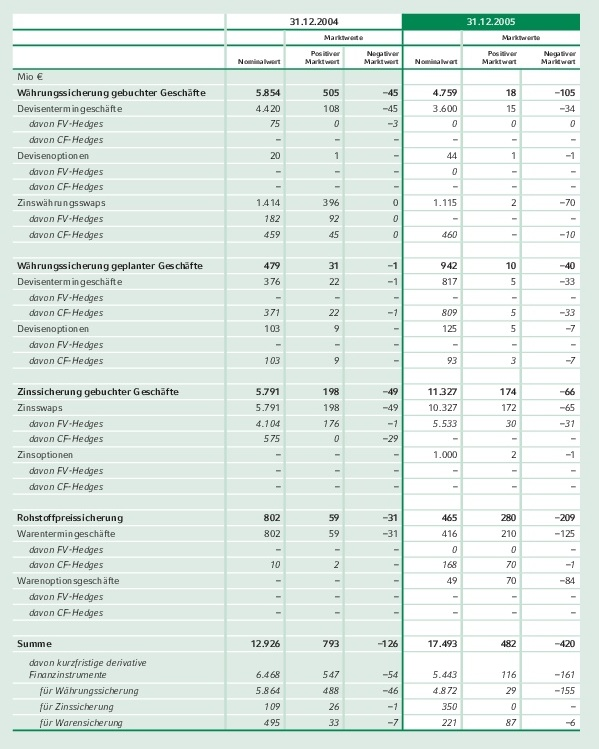table: (0, 0, 599, 749)
